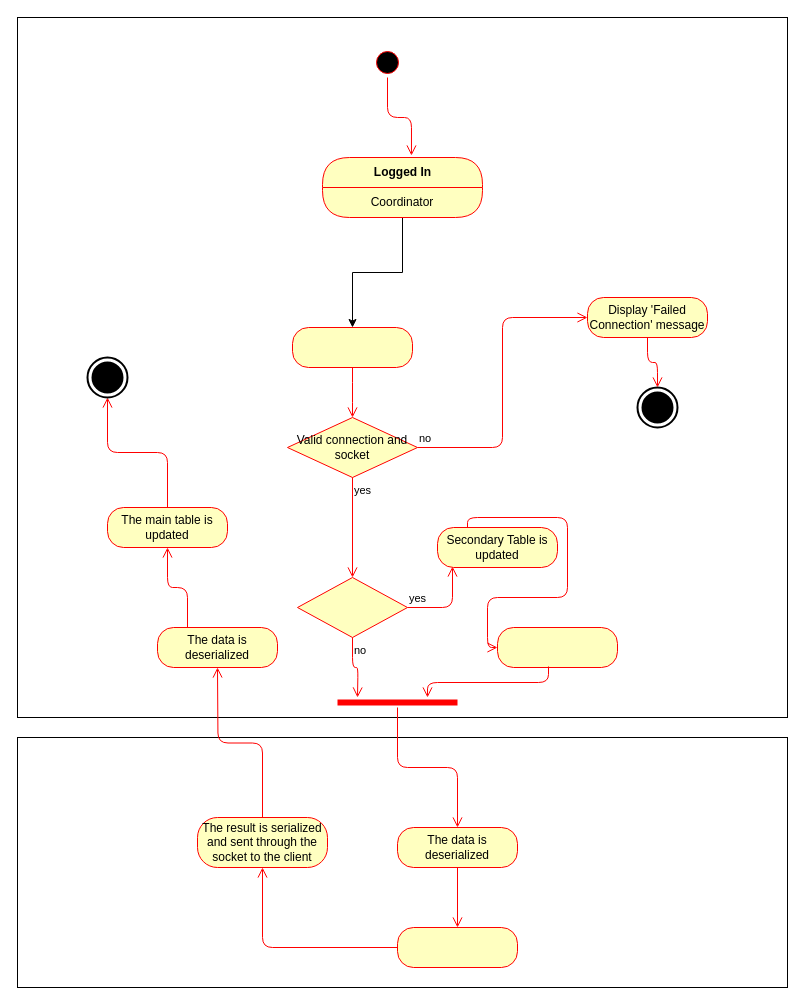
This 805x1005 diagram has some shape labels left out. Each missing label, with the centre of its shape:
Add / Update button clicked: the point at 557,647
Add or Update operation: the point at 352,607
Button for CRUD is clicked: the point at 352,347
The DB is being querried: the point at 457,947
